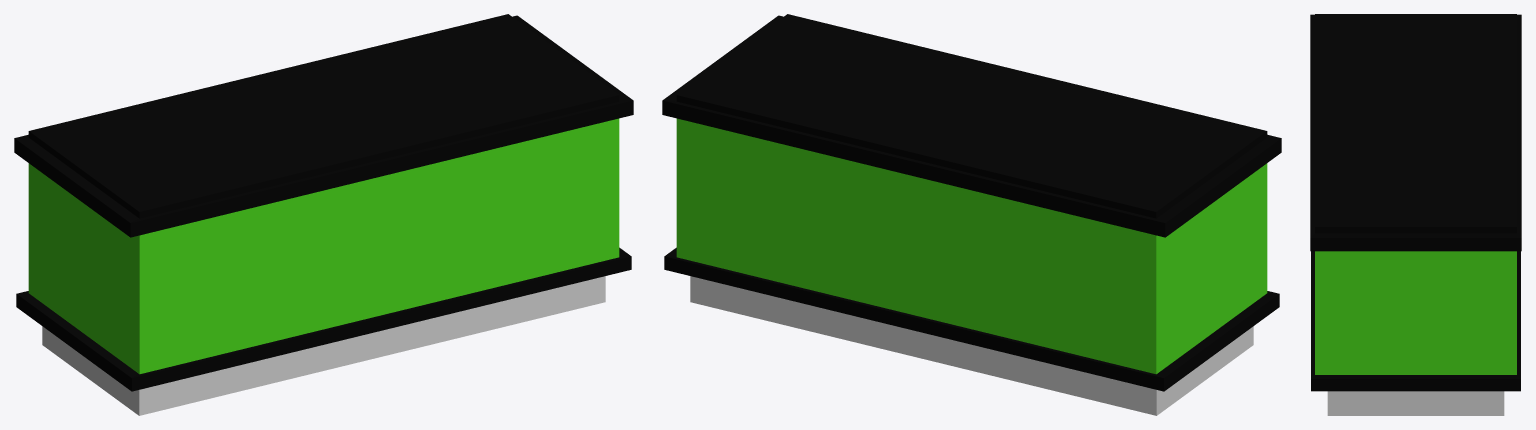
The model's file is building3.fbx.
The picture shows the model from 3 angles, left to right: view 1: azimuth 30°, elevation 25°; view 2: azimuth 150°, elevation 25°; view 3: azimuth 270°, elevation 25°; orthographic projection. The views are drawn at different scales.
Visible parts, largest first — view 1: Cube.001; view 2: Cube.001; view 3: Cube.001.
Part boxes in pixels (x1,y1,x2,y2): Cube.001: (14,14,633,415); Cube.001: (662,14,1281,415); Cube.001: (1310,14,1521,415).
Bounding box in the file's own units: 5000 × 2000 × 2000.
